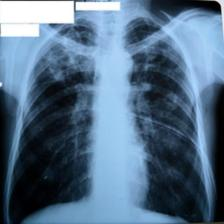tuberculosis: (5, 14, 213, 224)
